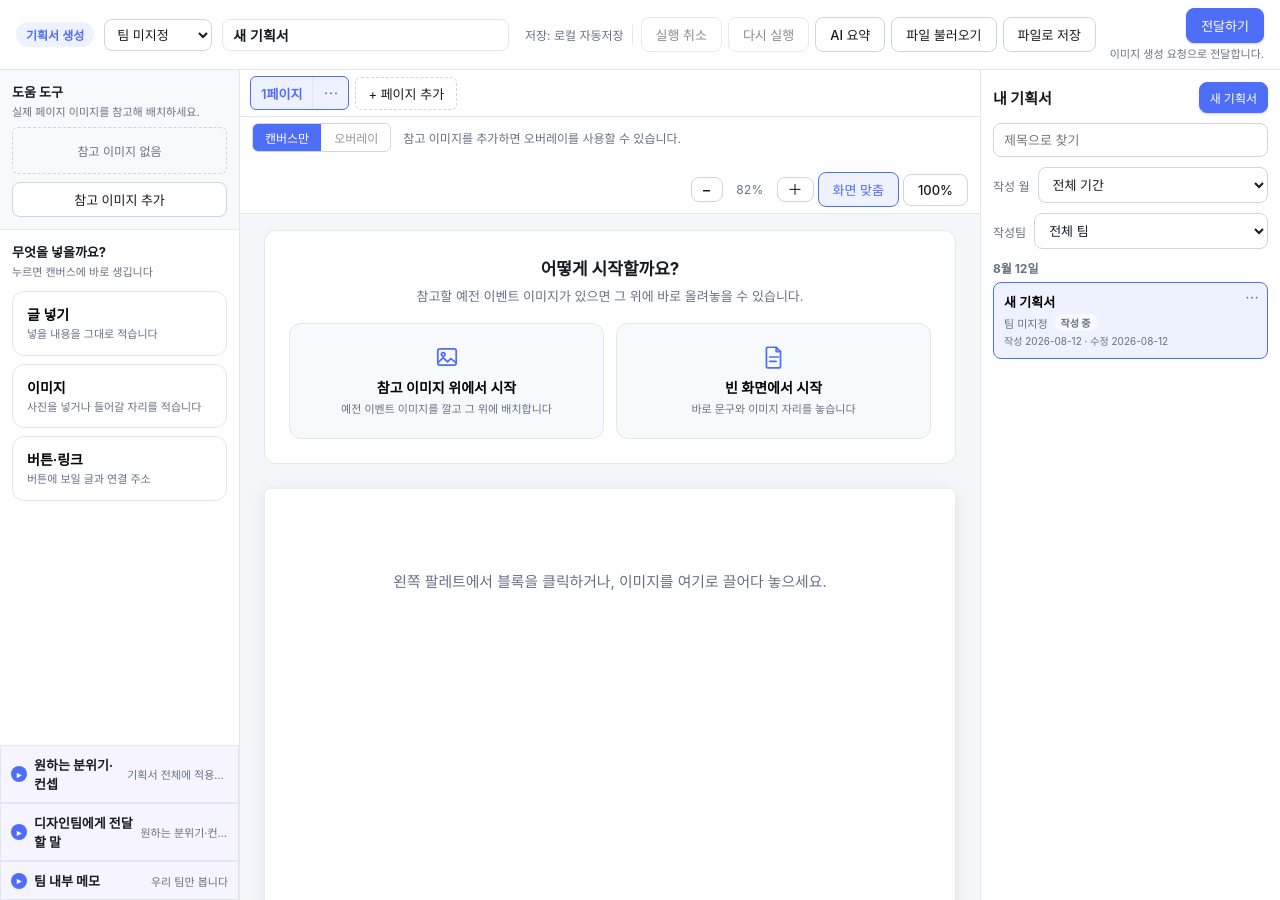
Test: 전달하기 → work request › creates a request that appears in the image-generation queue as 신규
The width and height of the screenshot is (1280, 900).
Click the button "글 넣기 넣을 내용을 그대로 적습니다" at (120, 323), box [12,291,227,356]
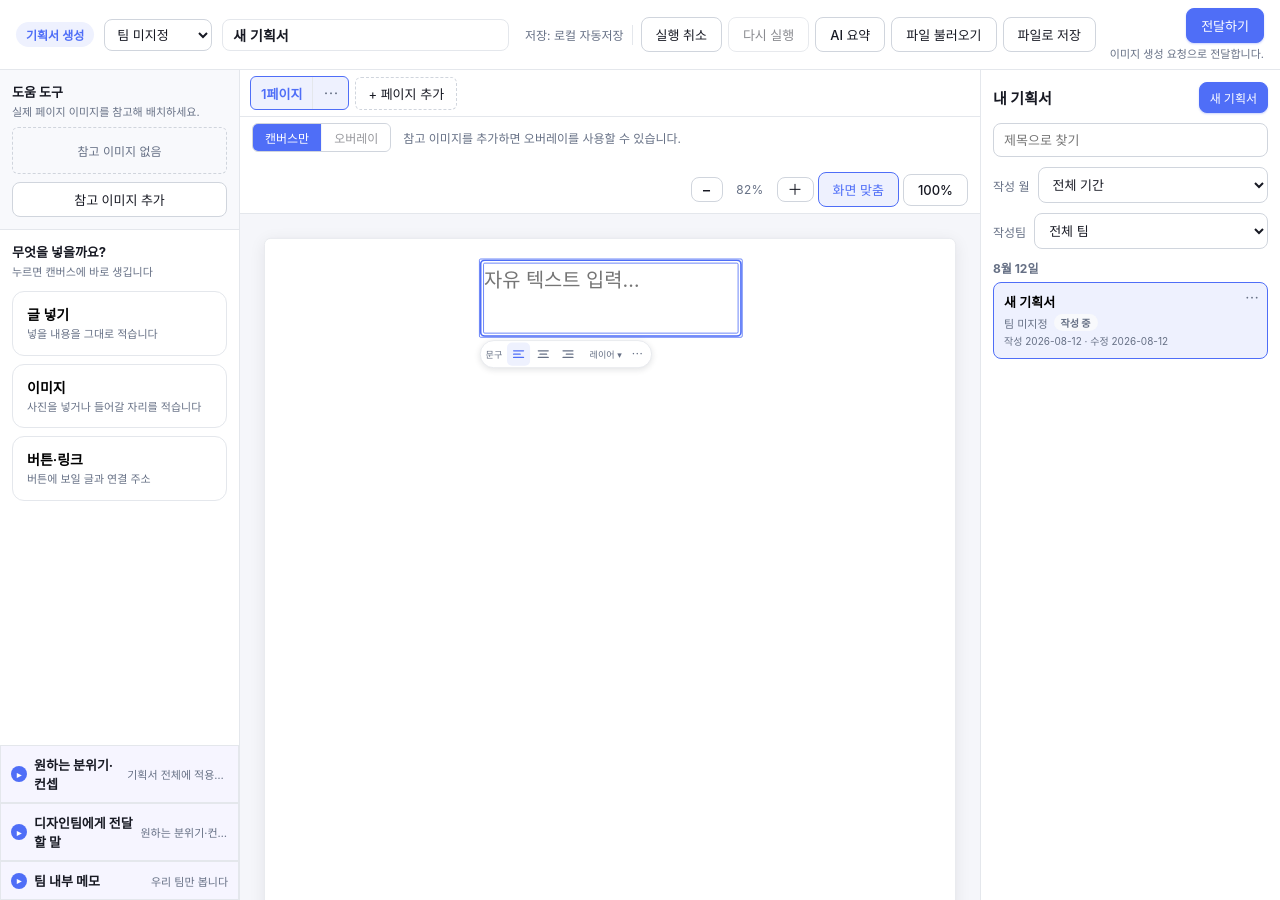
Replace the text in the field named "기획서 제목" with "여름 세일 기획" at (366, 34), box [222,18,509,50]
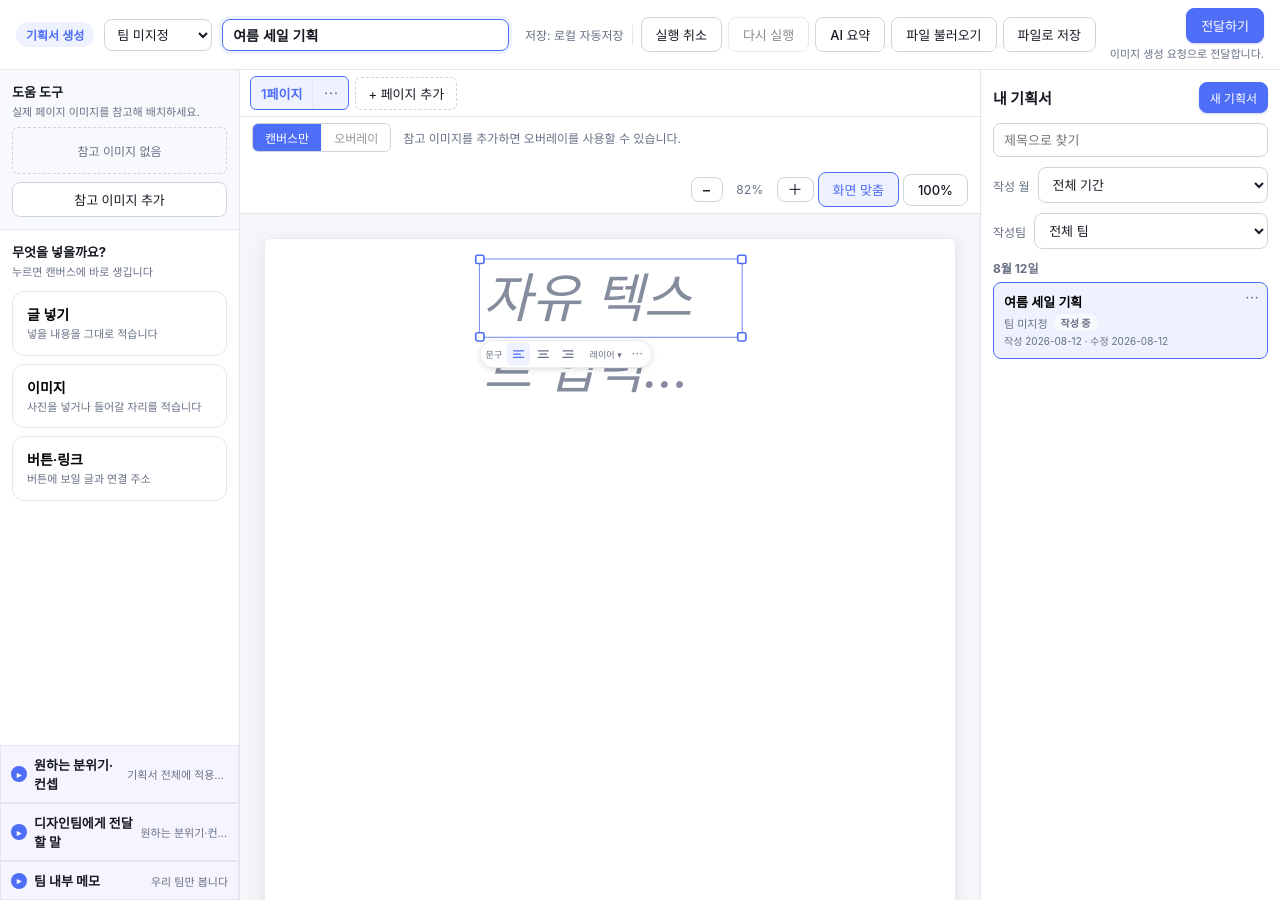
Click the button "전달하기" at (1225, 26), box [1186,8,1264,43]
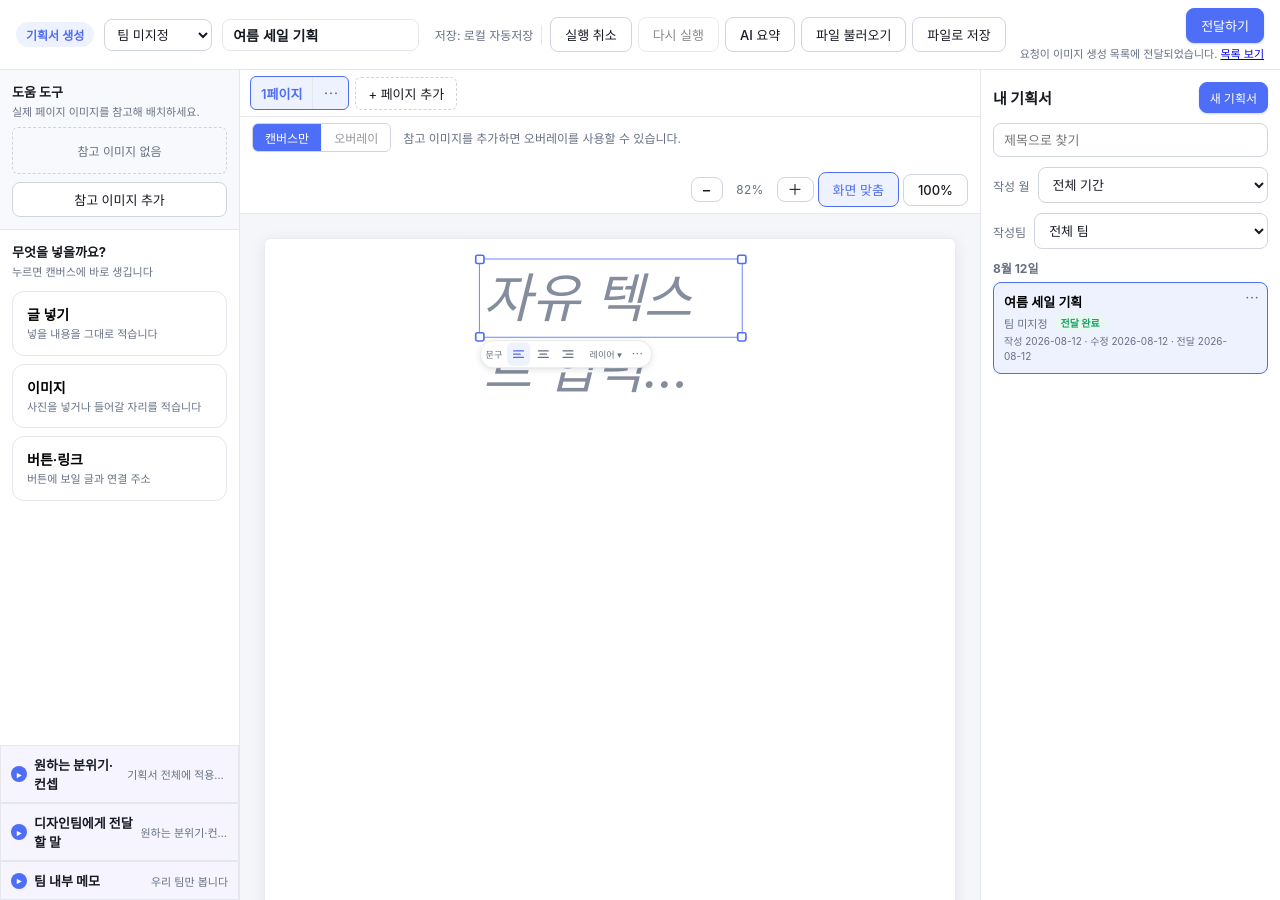
Check: the message shows "전달되었습니다", box [1020,47,1217,61]
Click the link "목록 보기" at (1242, 54), box [1220,47,1264,61]
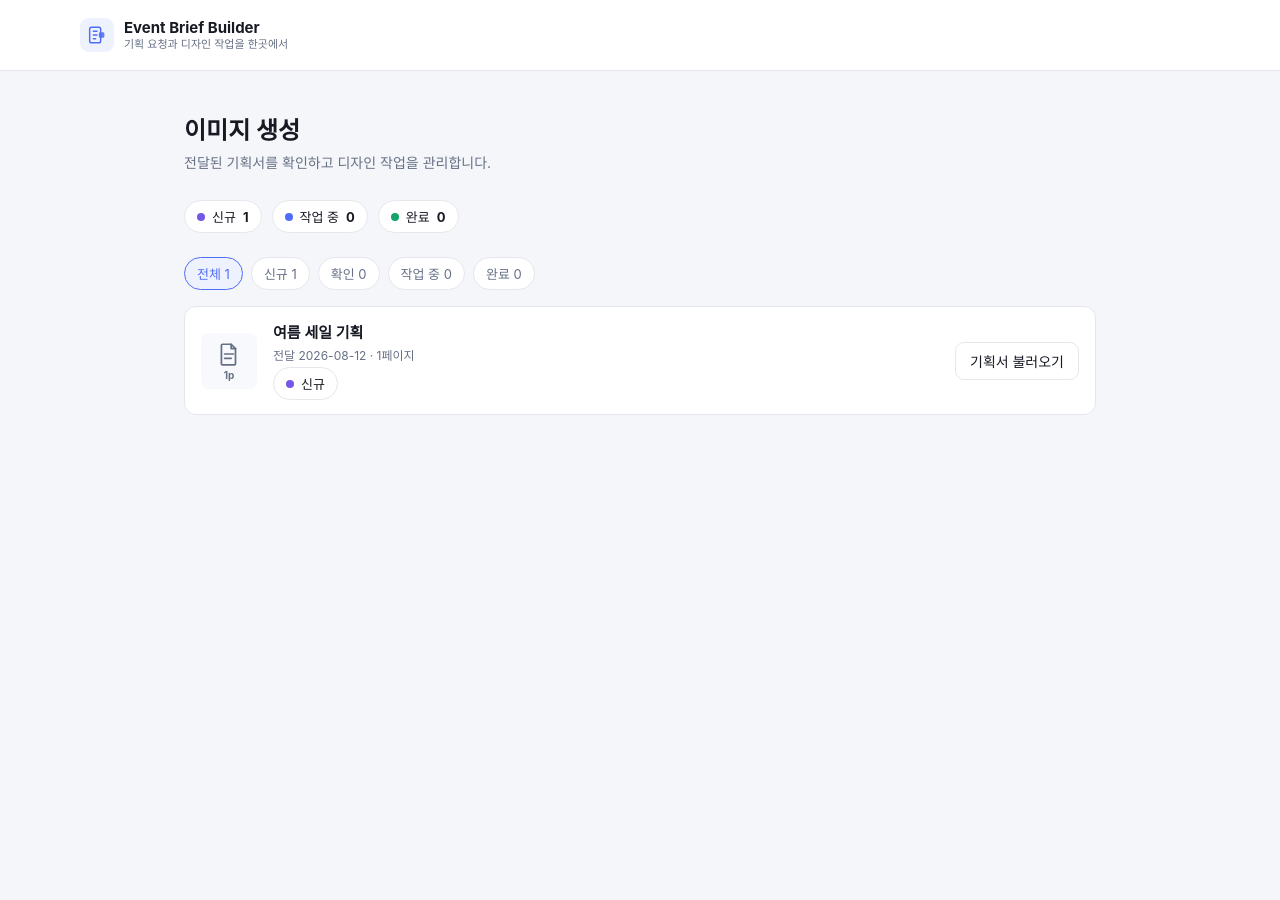
Check: the heading "이미지 생성" is shown, box [184,116,300,145]
Check: the heading "여름 세일 기획" is shown, box [273,321,363,342]
Check: the text "신규" shows "1", box [243,208,248,224]
